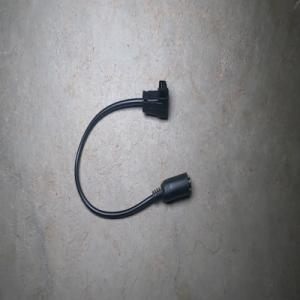Wire: (74, 80, 191, 219)
